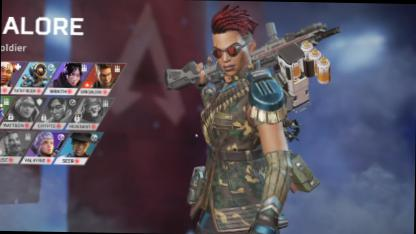Target: (201, 7, 265, 218)
